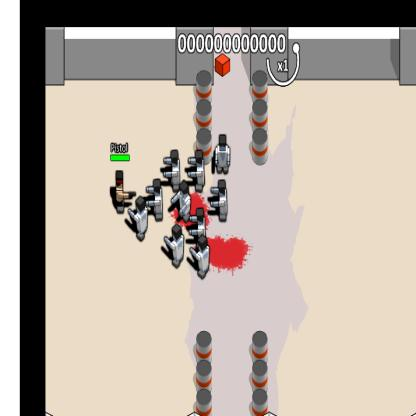agent: (114, 169, 128, 215)
jombie: (213, 133, 232, 174), (194, 234, 210, 281), (148, 178, 165, 221), (132, 198, 148, 240), (177, 181, 192, 223), (170, 225, 185, 267), (214, 180, 228, 224), (193, 150, 206, 192), (167, 147, 181, 184), (193, 207, 208, 236)
